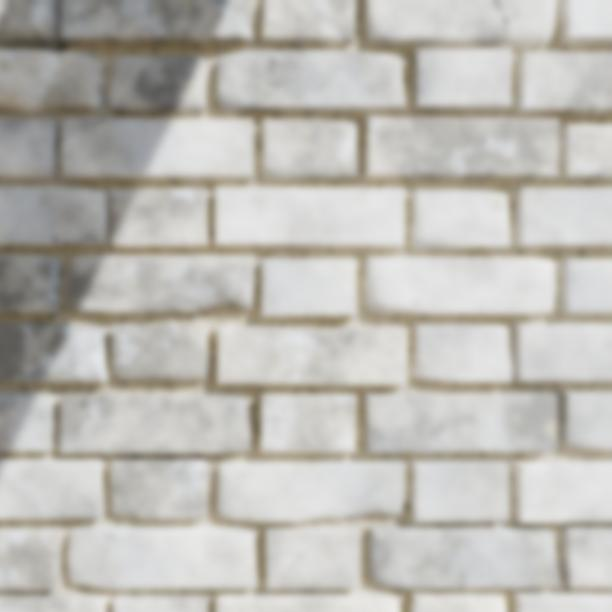brick: (365, 117, 557, 179), (68, 526, 256, 588), (368, 526, 559, 587), (217, 51, 405, 112), (62, 119, 253, 179), (365, 393, 556, 452), (217, 461, 404, 521), (215, 187, 404, 246), (60, 395, 250, 453), (217, 327, 407, 384), (366, 257, 555, 314), (67, 256, 254, 312), (365, 0, 556, 47), (62, 0, 251, 44), (0, 187, 109, 246), (0, 458, 104, 519), (0, 325, 107, 381), (414, 49, 510, 111), (516, 52, 611, 114), (266, 527, 360, 589), (514, 462, 611, 522), (411, 461, 508, 521), (110, 458, 206, 518), (515, 188, 611, 247), (262, 120, 356, 180), (412, 190, 509, 248), (513, 324, 611, 381), (112, 189, 208, 247), (260, 394, 355, 452), (413, 325, 511, 381), (110, 57, 206, 113), (112, 325, 208, 380), (261, 259, 355, 315), (263, 0, 355, 45), (0, 528, 61, 589), (215, 592, 400, 611), (0, 119, 58, 178), (0, 256, 59, 312), (0, 393, 55, 450), (561, 525, 611, 587), (558, 392, 611, 449), (560, 124, 611, 179), (560, 260, 611, 313), (0, 0, 59, 45), (560, 0, 611, 45), (513, 592, 611, 611), (0, 594, 108, 611), (411, 593, 506, 611), (113, 595, 208, 611), (62, 119, 96, 135)
broken_brick: (0, 51, 105, 112)
crack: (0, 0, 67, 53), (61, 118, 106, 159), (110, 255, 135, 306), (69, 394, 90, 439), (493, 0, 521, 33), (94, 395, 118, 433), (74, 0, 101, 24), (50, 234, 91, 246), (108, 0, 122, 21), (532, 188, 543, 212), (93, 364, 103, 382), (216, 603, 236, 609), (260, 261, 266, 268), (74, 377, 79, 382), (518, 187, 523, 192)
